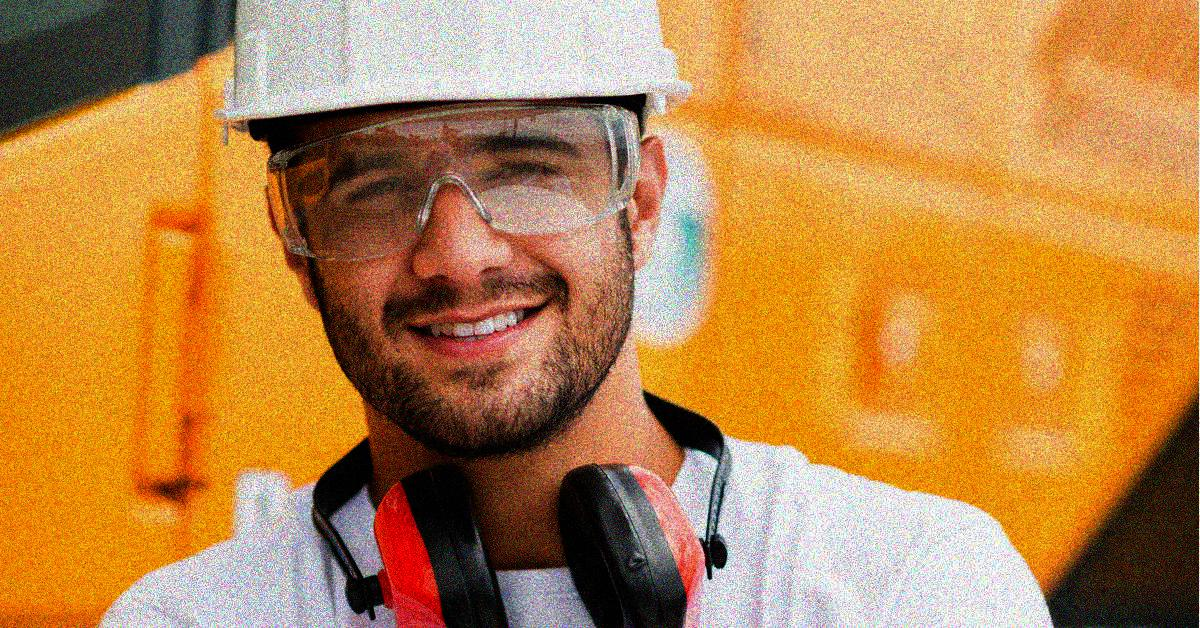helmet: (215, 1, 693, 455)
